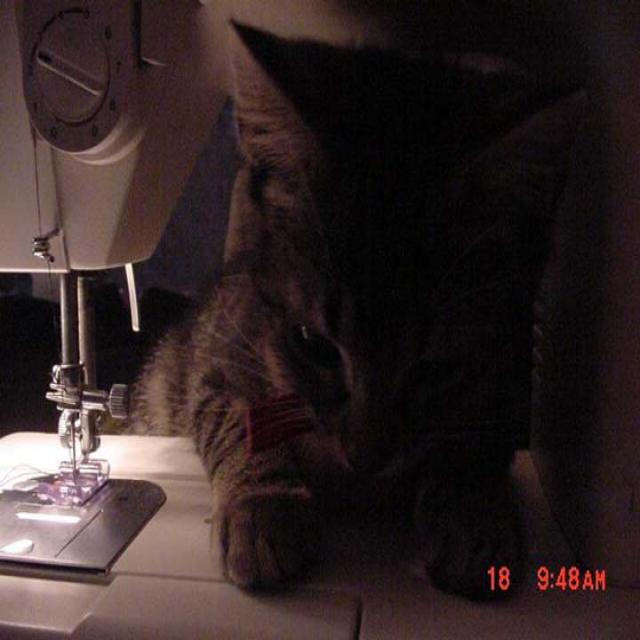Cat: (130, 13, 599, 608)
